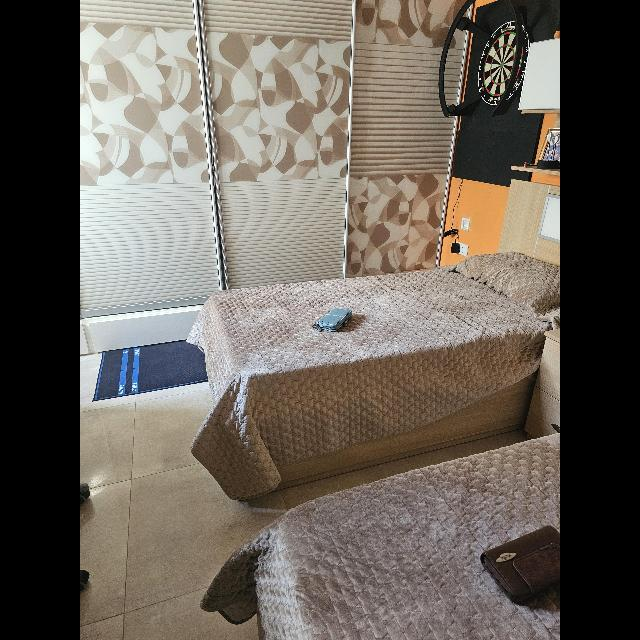Wallet: (480, 526, 560, 604), (314, 308, 354, 332)
